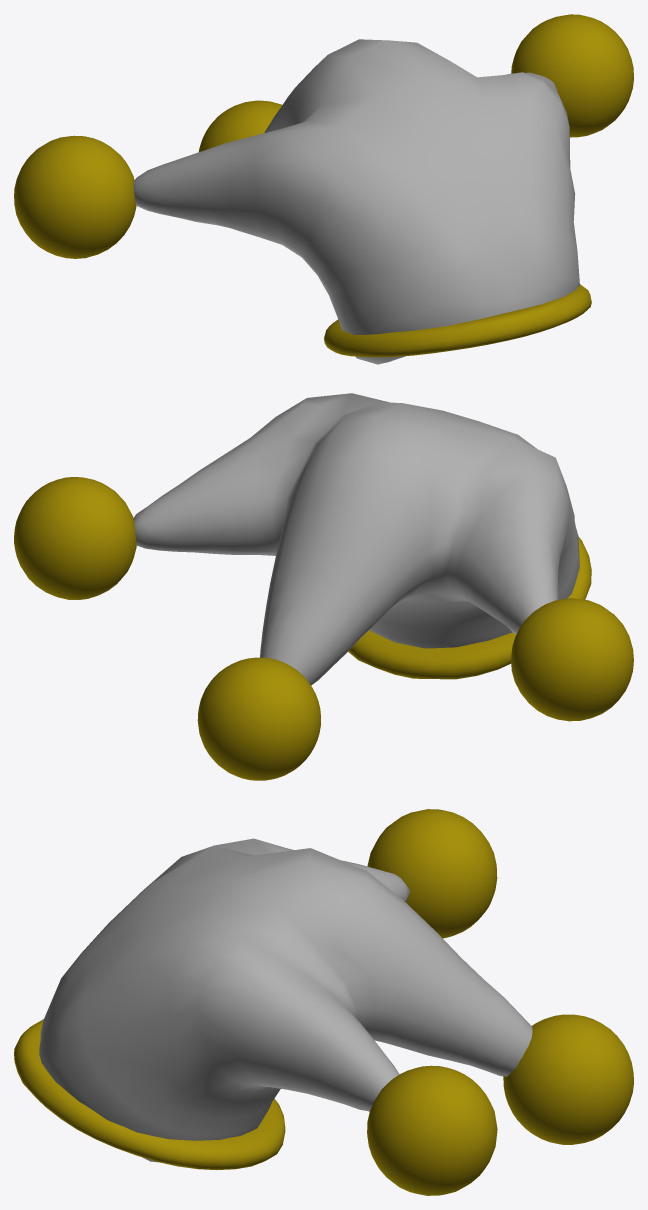
Rendered from Chapeau03.fbx.
The picture shows the model from 3 angles, top to bottom: view 1: azimuth 30°, elevation 25°; view 2: azimuth 150°, elevation 25°; view 3: azimuth 270°, elevation 25°; orthographic projection. The views are drawn at different scales.
Parts seen in each view (by area): view 1: Chapeau03; view 2: Chapeau03; view 3: Chapeau03.
Part boxes in pixels (x1=…): Chapeau03: x1=14, y1=14, x2=633, y2=364; Chapeau03: x1=14, y1=393, x2=633, y2=780; Chapeau03: x1=14, y1=809, x2=633, y2=1195.
Size of the model in its own units: 74.08 by 31.32 by 62.28.
